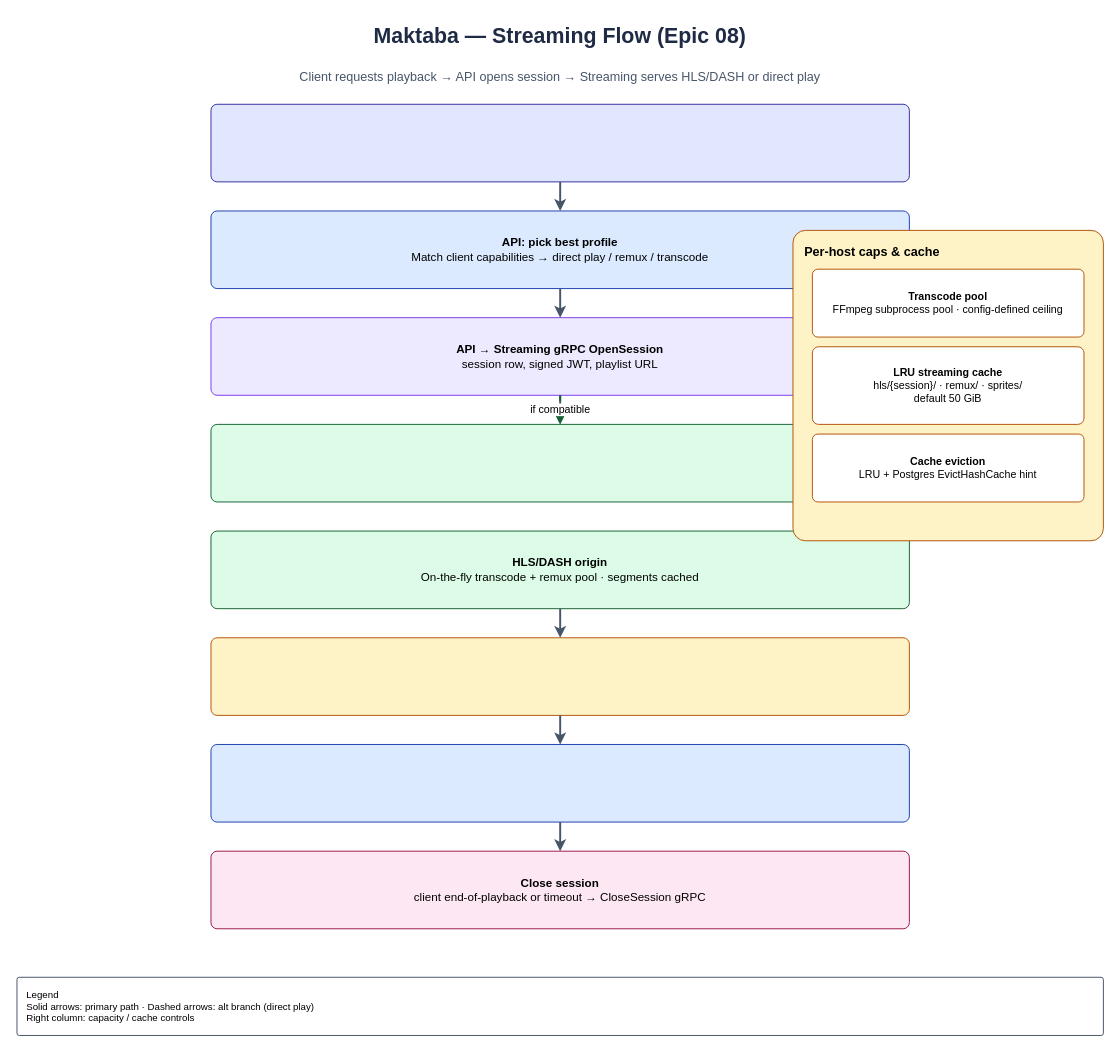
Image size: 1120x1052. Some labels were removed from this diagram. Each missing label, with the centre of its shape:
Client requests playback GET /api/videos/{id}/play: the point at 559,142
Direct play (range) HTTP 206 byte ranges from media volume: the point at 559,462
Periodic watch progress PUT /api/watch_progress (debounced): the point at 559,783
Player plays Vidstack / AVPlayer / ExoPlayer · seek triggers new requests: the point at 559,676
